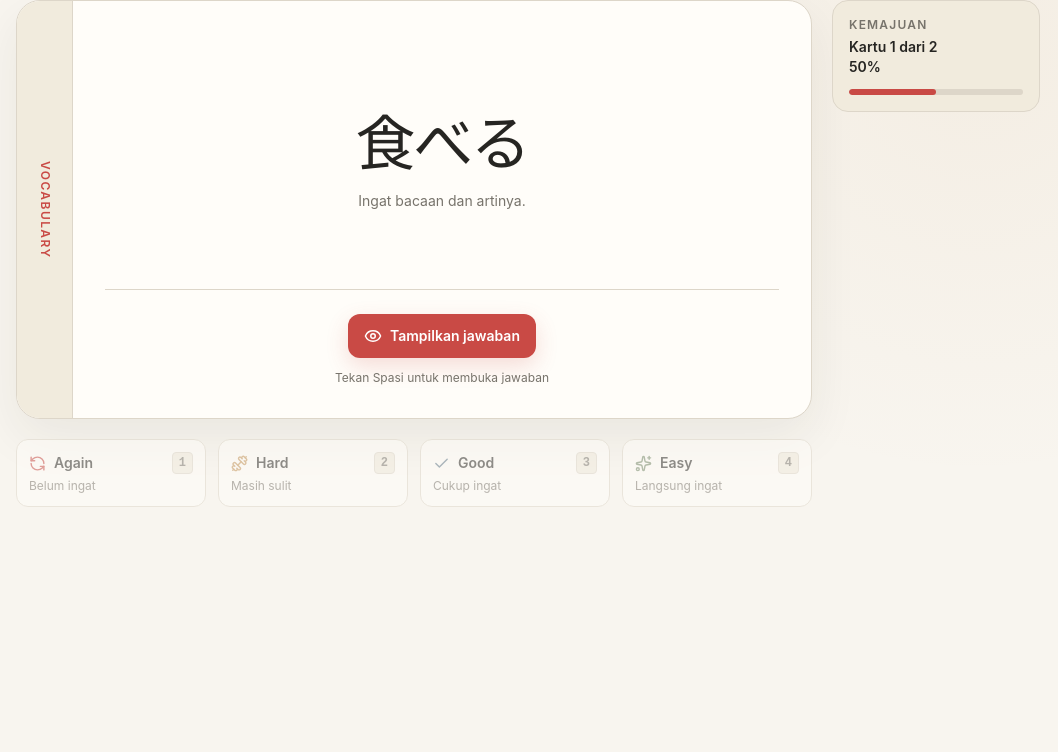
FlashcardSession › shows exact rating distribution and one review item per response
The width and height of the screenshot is (1058, 752).
Click the button "Tampilkan jawaban" at (442, 336), box [348, 314, 536, 358]
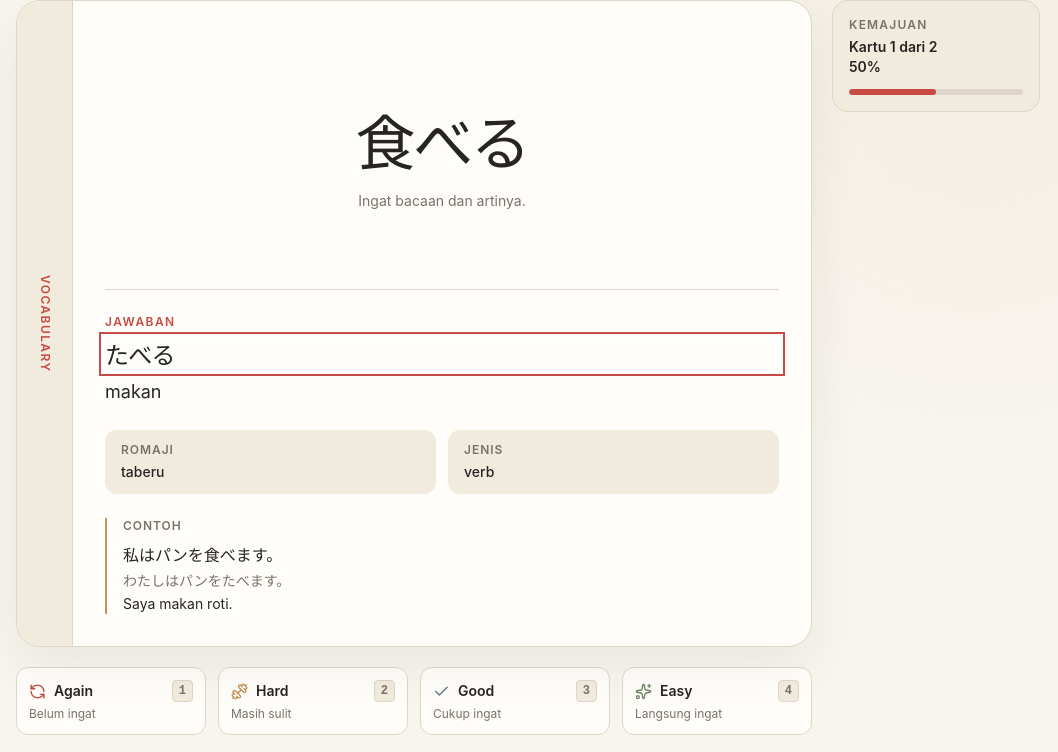
Click the button "Again 1 Belum ingat" at (111, 701), box [16, 667, 206, 735]
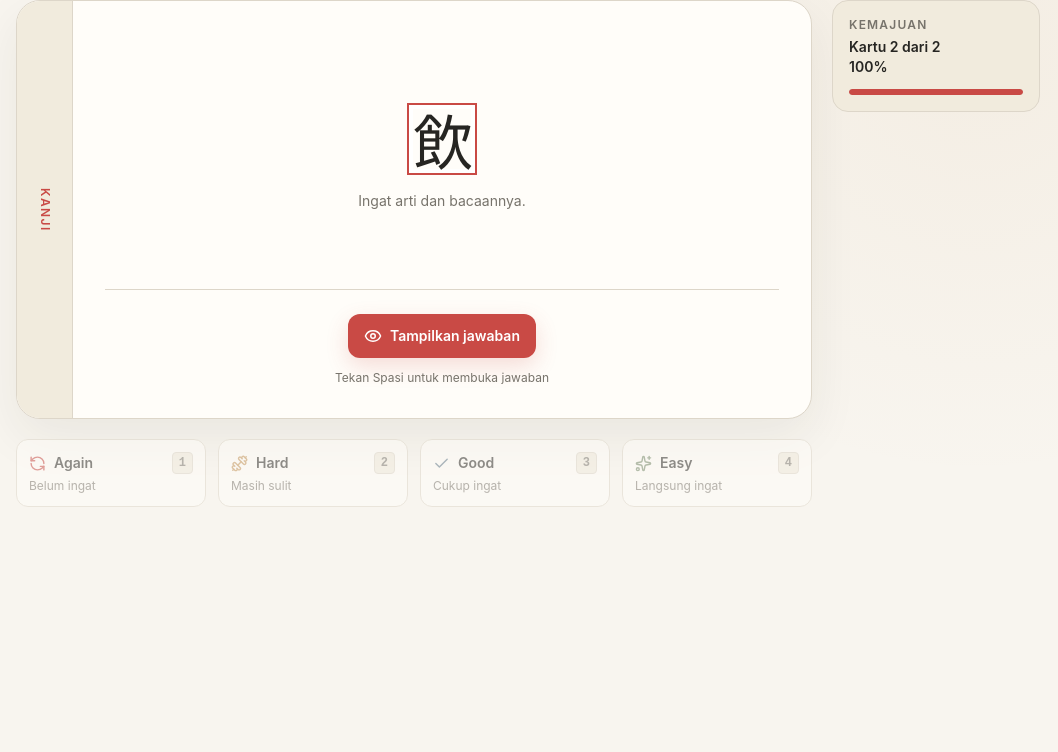
Click the button "Tampilkan jawaban" at (442, 336), box [348, 314, 536, 358]
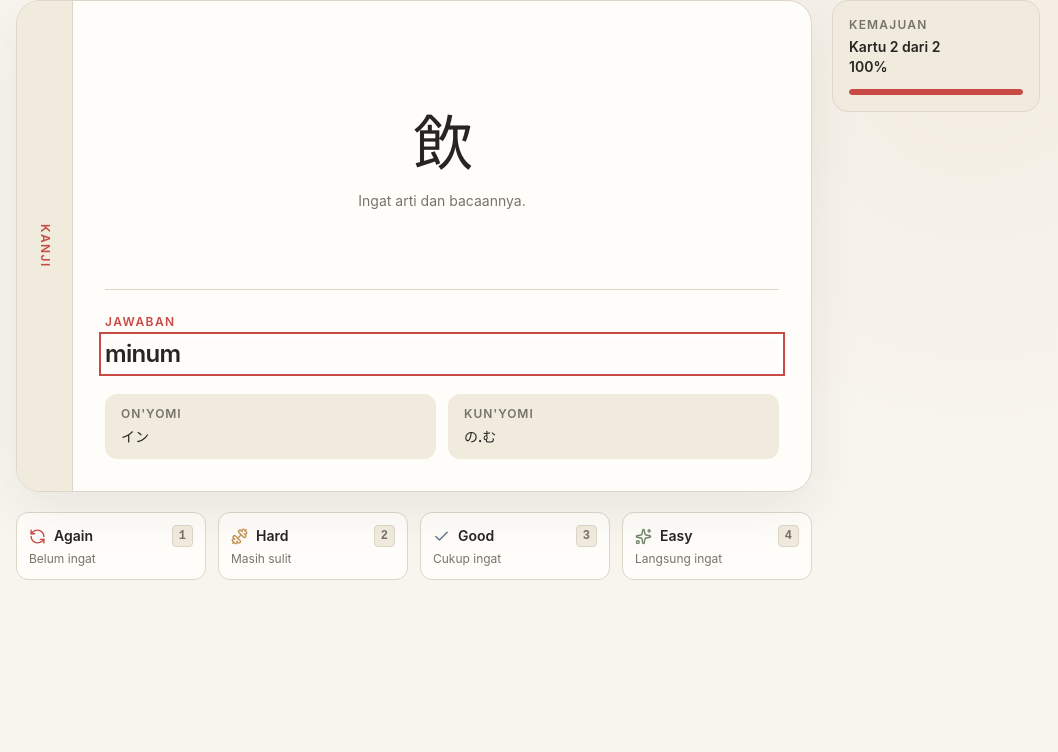
Click the button "Easy 4 Langsung ingat" at (717, 546), box [622, 512, 812, 580]
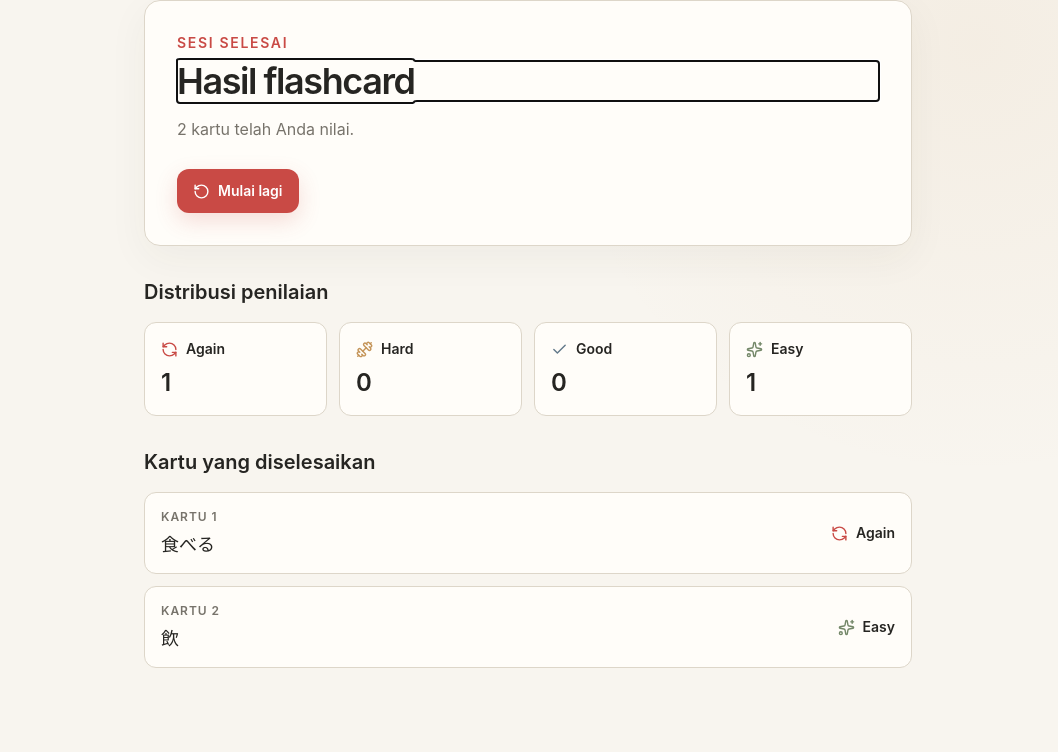
Expected: the list item with aria-label "Hard: 0" is shown, [339, 322, 522, 416]
Expected: the list item with aria-label "Good: 0" is shown, [534, 322, 717, 416]
Expected: the list item with aria-label "Easy: 1" is shown, [729, 322, 912, 416]
